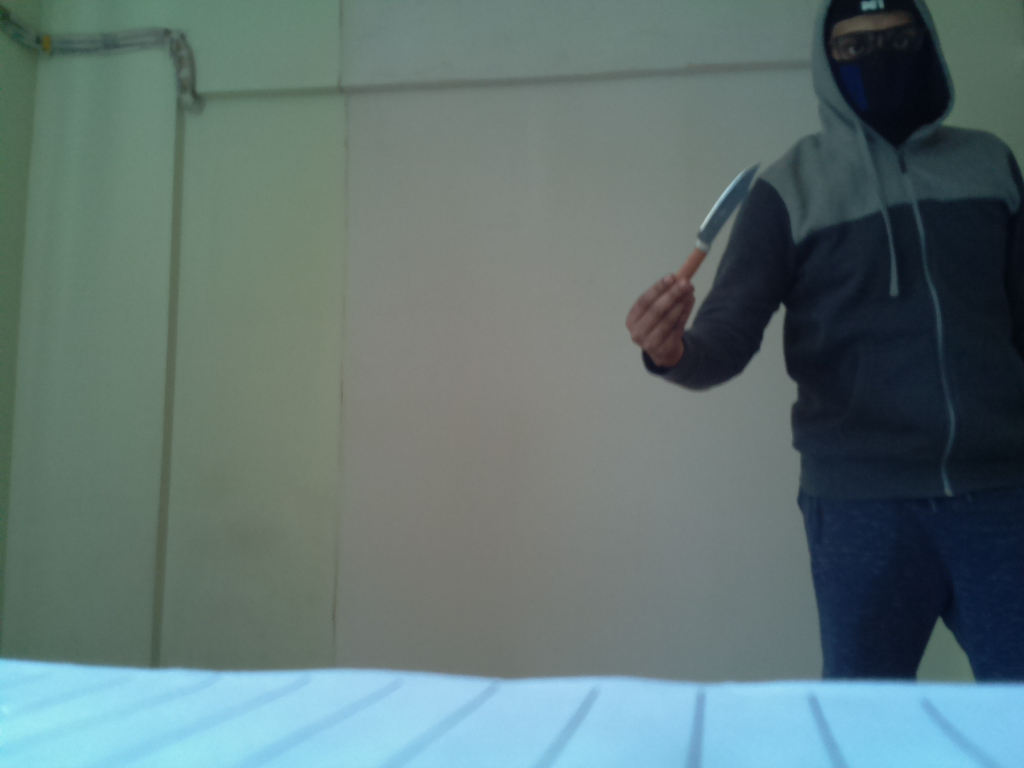knife: (670, 158, 763, 287)
